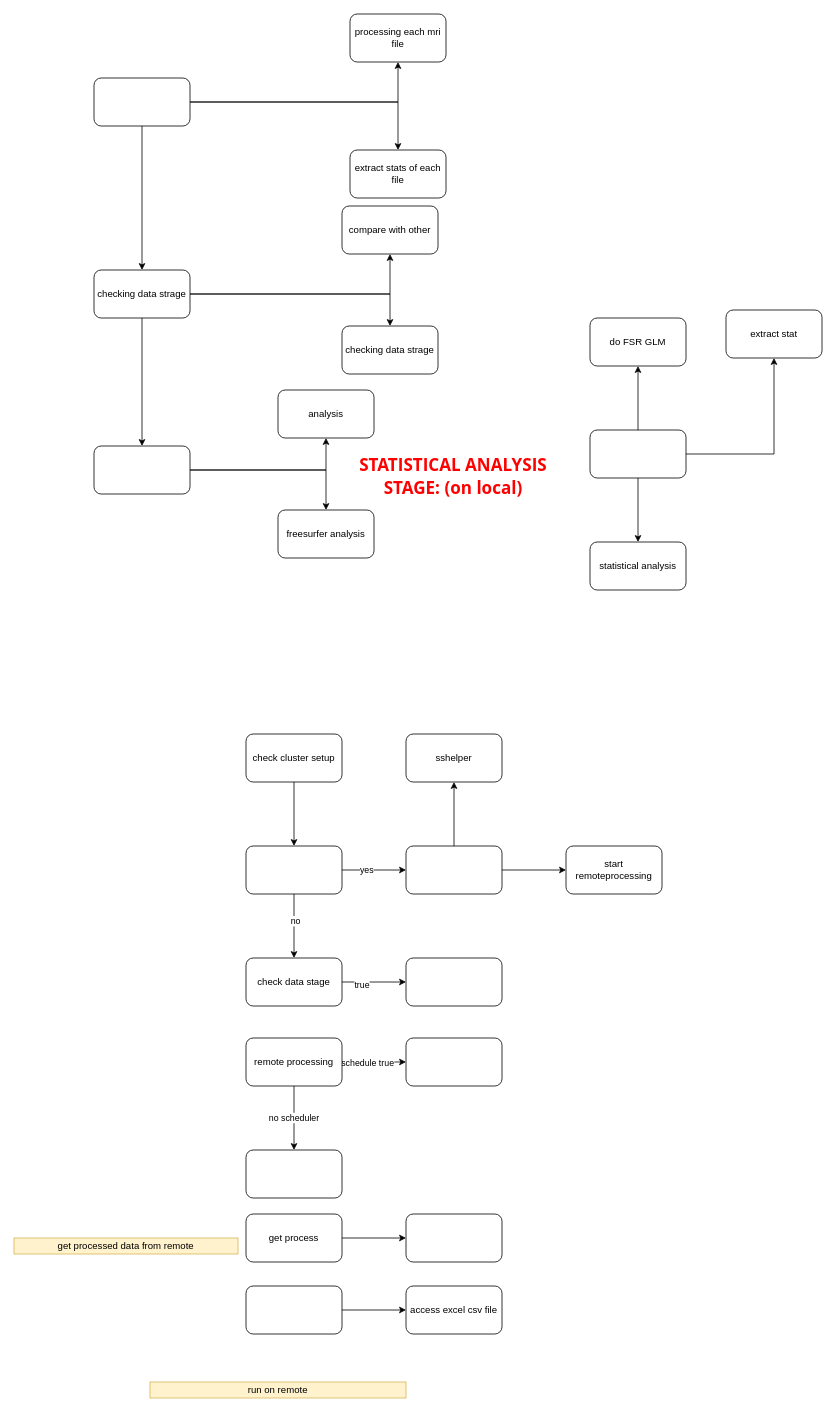
This 836x1412 diagram has some shape labels left out. Each missing label, with the box of its shape:
analyze: (93, 445, 190, 494)
classifier: (245, 1285, 342, 1334)
copy back to local: (405, 1213, 502, 1262)
copy to remote: (405, 845, 502, 894)
processing data: (93, 77, 190, 126)
read json file: (245, 845, 342, 894)
run/sbatch: (405, 1037, 502, 1086)
send comand to tmux: (245, 1149, 342, 1198)
statistical analyze: (405, 957, 502, 1006)
